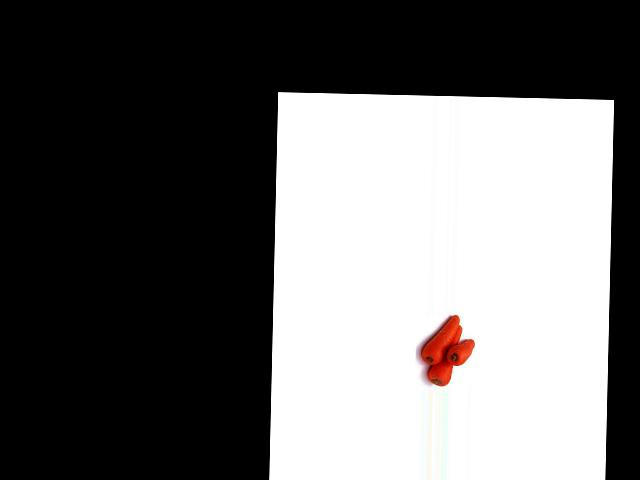carrot: (425, 323, 461, 385)
